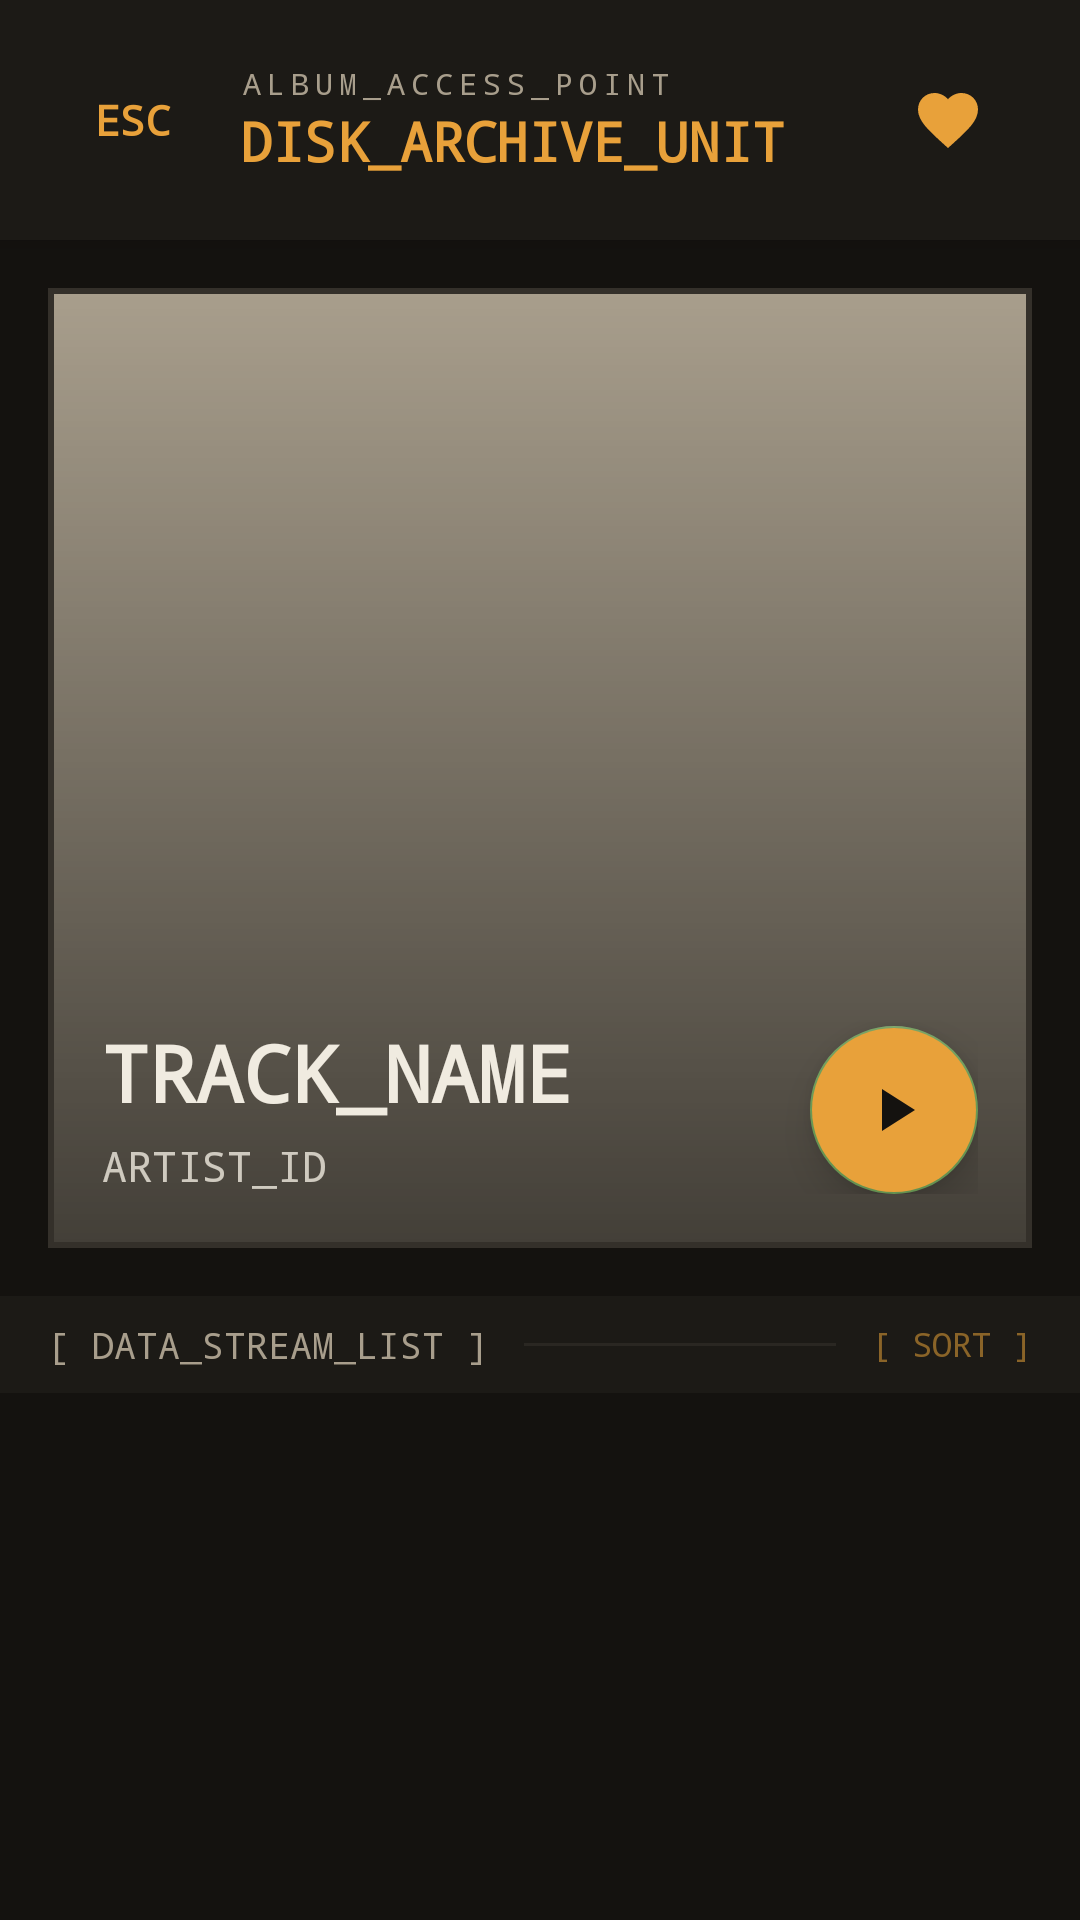

Named icons in this screenshot (1080w x 1920h) and their centers, (x=x, y=y):
favorite: (x=948, y=120)
play: (x=894, y=1110)
